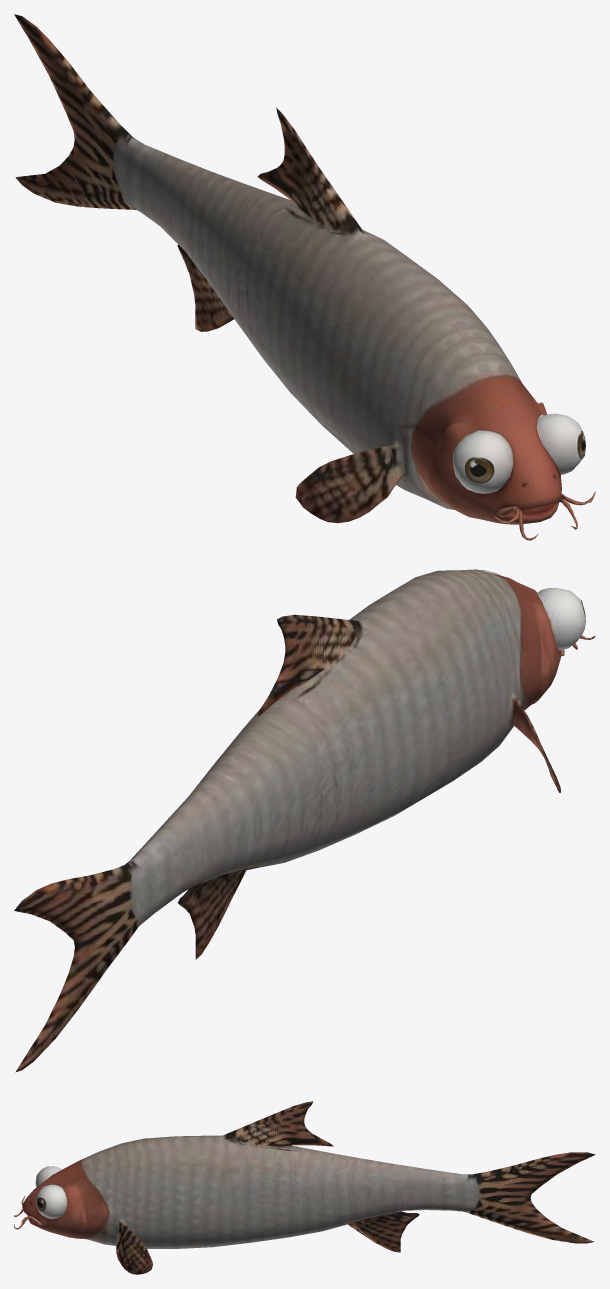
3 renders of one model, top to bottom at view 1: azimuth 30°, elevation 25°; view 2: azimuth 150°, elevation 25°; view 3: azimuth 270°, elevation 25°, orthographic. The views are drawn at different scales.
Visible parts, largest first — view 1: yu12; view 2: yu12; view 3: yu12.
Part boxes in pixels (x1,y1,x2,y2): yu12: (14,14,595,540); yu12: (14,569,595,1072); yu12: (14,1101,595,1274).
Size of the model in its own units: 38.09 by 38.87 by 136.
Materials: 1 (1 with a texture image).
